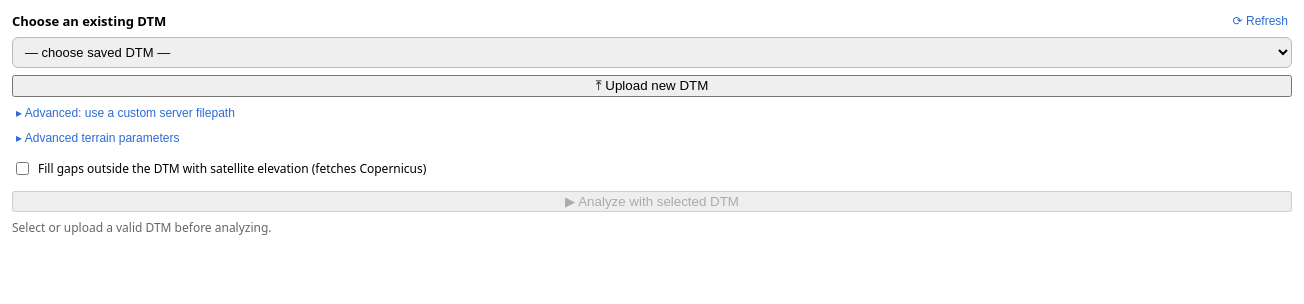
Scenario: DtmPanel › lists DTMs and shows selected metadata + Ready status
Select "caliterra-dtm.tif · 128.0 MB" in the dropdown named "Saved DTMs" at {"x": 652, "y": 52}, box 12,37 -> 1292,68
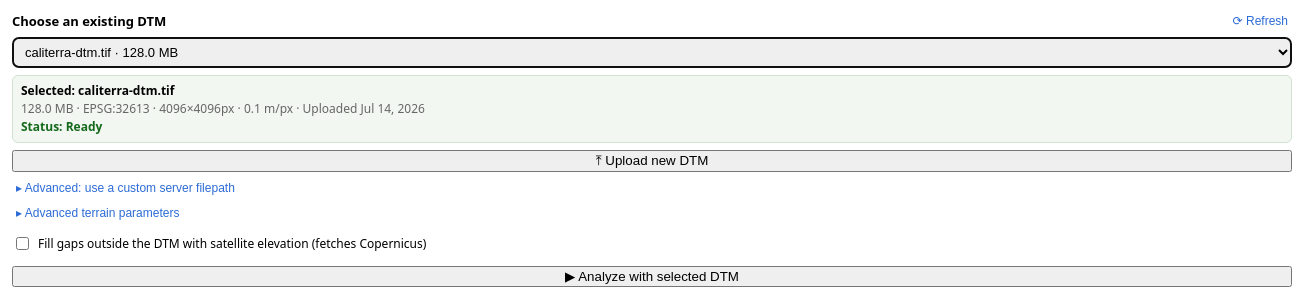
Now the element with test id "dtm-selected" shows "Selected: caliterra-dtm.tif", box 12,75 -> 1292,143
Now the element with test id "dtm-selected" shows "128.0 MB", box 21,100 -> 425,117
Now the element with test id "dtm-selected" shows "EPSG:32613", box 21,100 -> 425,117
